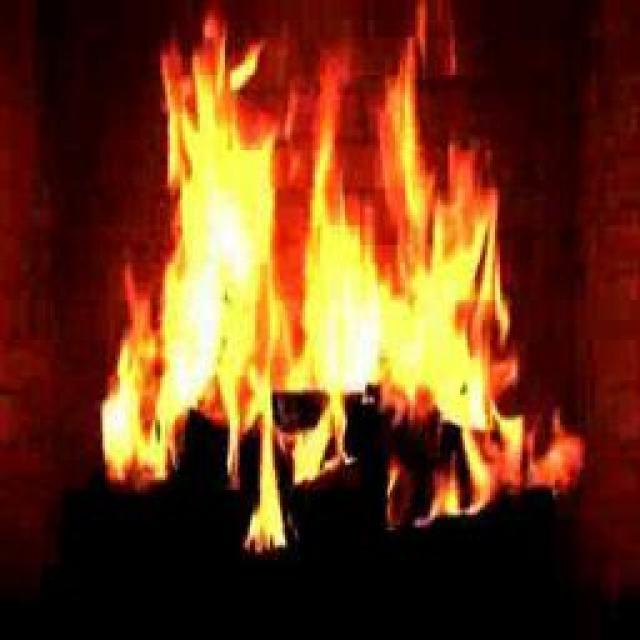Fire: (116, 50, 488, 479)
